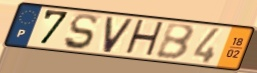4: (190, 26, 222, 65)
7: (39, 8, 70, 47)
B: (154, 23, 196, 62)
H: (122, 18, 166, 60)
S: (62, 12, 99, 51)
V: (101, 15, 136, 55)
